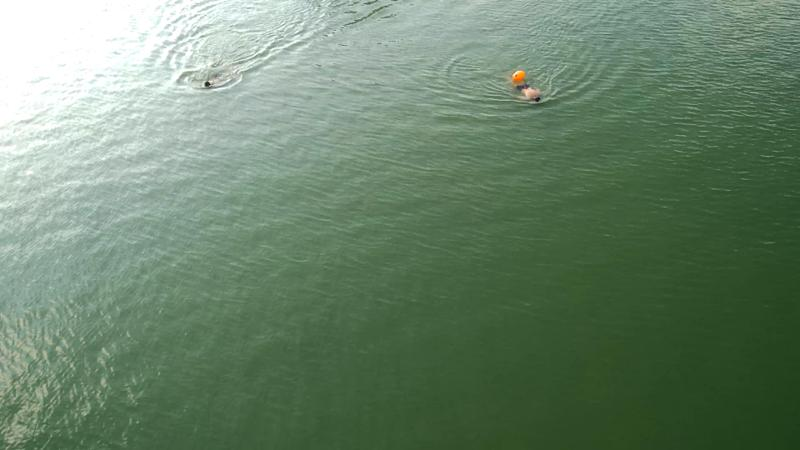swimmers: (507, 75, 542, 104)
